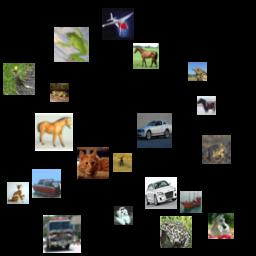airplane: (102, 8, 134, 40)
automobile: (137, 113, 172, 148), (145, 177, 177, 209)
bird: (3, 63, 35, 95), (188, 62, 207, 81)
cat: (77, 147, 109, 179), (7, 182, 29, 204)
deer: (113, 153, 132, 172)
dog: (114, 206, 133, 225)
frog: (54, 27, 89, 62), (160, 216, 192, 248), (202, 135, 231, 164), (50, 83, 69, 102)
ship: (32, 169, 61, 198), (180, 191, 202, 213)
truck: (43, 215, 81, 253)
